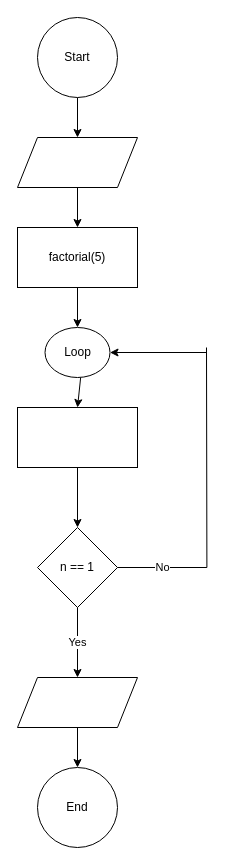
This 232x865 diagram has some shape labels left out. Here are the shapes that lost their labels. From the top down, the centre of each, then its label:
At point 77,162: "n = user input(5);".
At point 77,437: "n x factorial(n - 1) 5 x (5 - 1)".
At point 77,702: "factorial(5) Output = 120".
